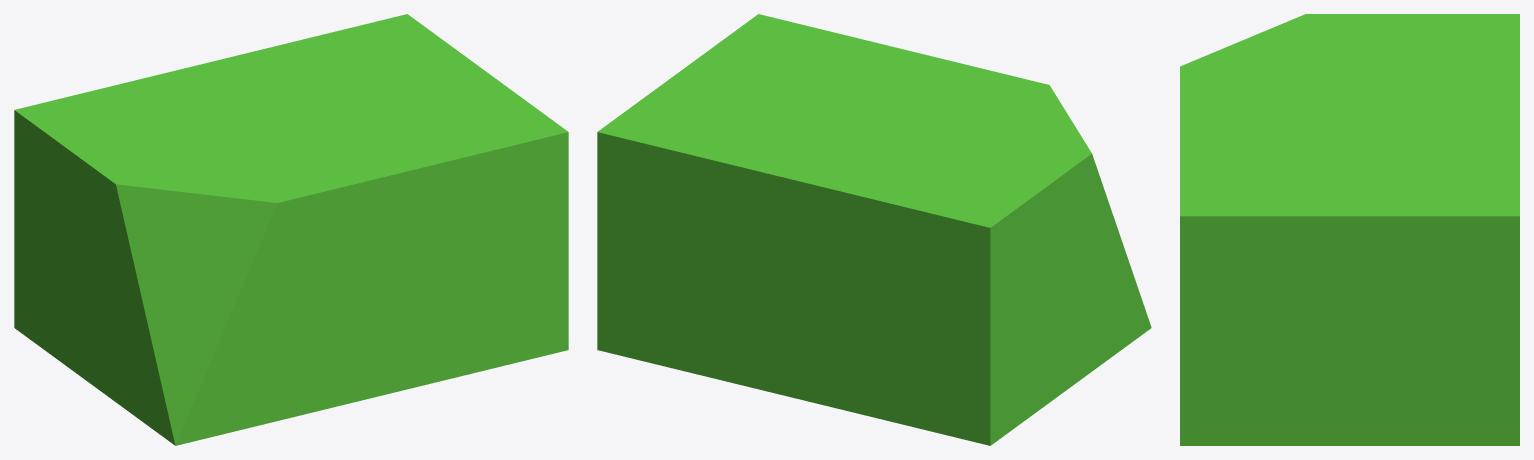
The model's file is Pavement_06.fbx.
The picture shows the model from 3 angles, left to right: view 1: azimuth 30°, elevation 25°; view 2: azimuth 150°, elevation 25°; view 3: azimuth 270°, elevation 25°; orthographic projection. The views are drawn at different scales.
Visible parts, largest first — view 1: Pavement_06; view 2: Pavement_06; view 3: Pavement_06.
Part boxes in pixels (left/top/right/bottom): Pavement_06: left=14, top=14, right=568, bottom=445; Pavement_06: left=597, top=14, right=1151, bottom=445; Pavement_06: left=1180, top=14, right=1519, bottom=445.
Bounding box in the file's own units: 30.63 × 16.23 × 21.76.
